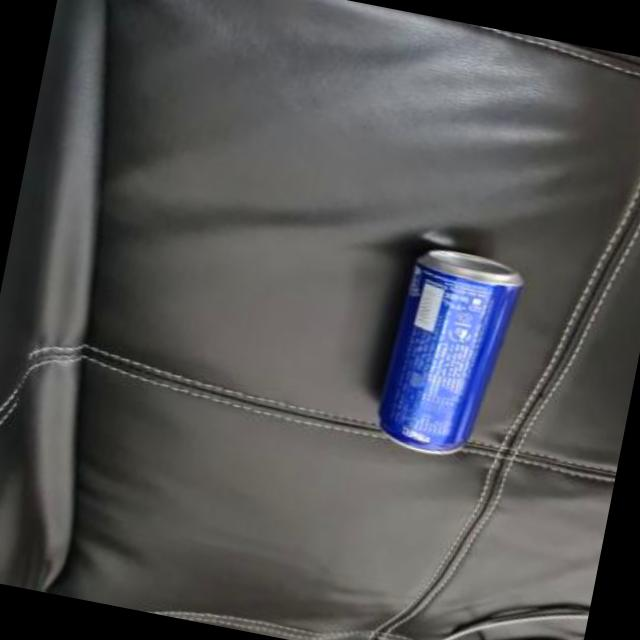metal: (376, 251, 519, 454)
